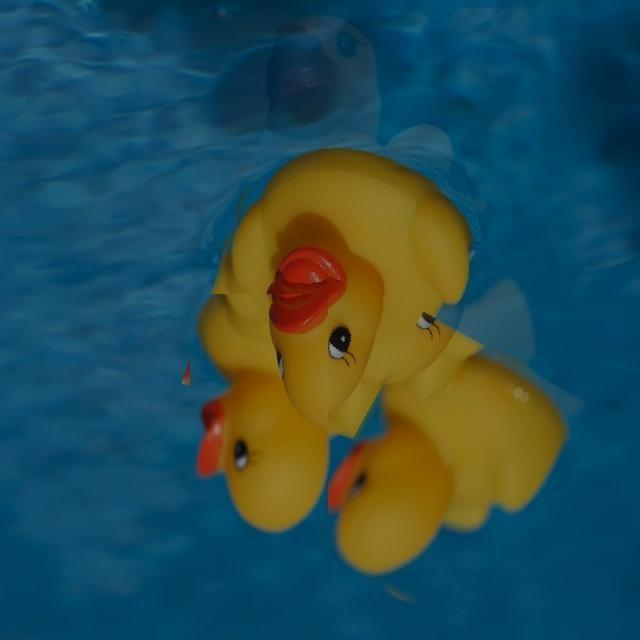rubber-duck: (199, 149, 469, 434), (328, 331, 563, 572), (197, 368, 326, 529), (200, 297, 235, 346)
